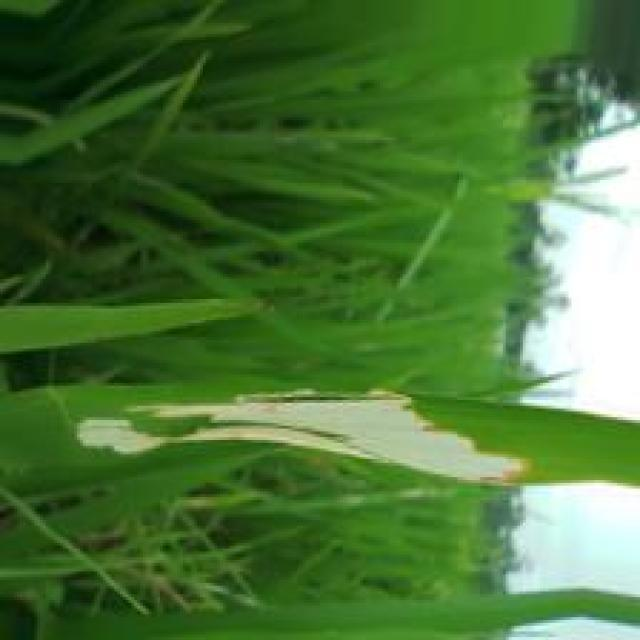Rice_Hispa: (74, 392, 526, 481)
